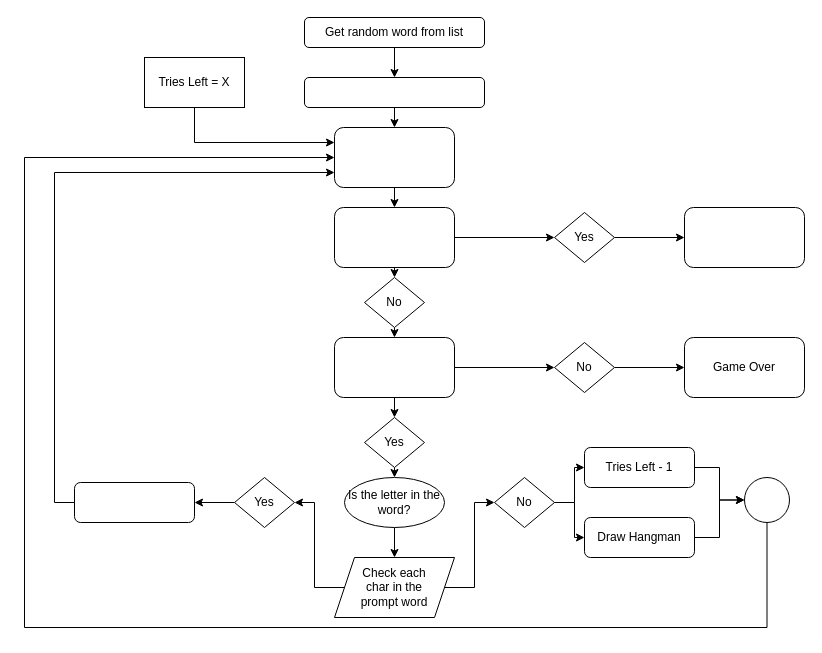
This 822x653 diagram has some shape labels left out. Each missing label, with the box of its shape:
Display blanks for num of each char in word: (304, 76, 484, 108)
Is the word completely guessed?: (334, 206, 454, 268)
Reveal guessed letters in the word: (74, 482, 194, 522)
User Guess Letter: (334, 126, 454, 188)
User has more tries?: (334, 336, 454, 398)
User Win: (684, 206, 804, 268)
